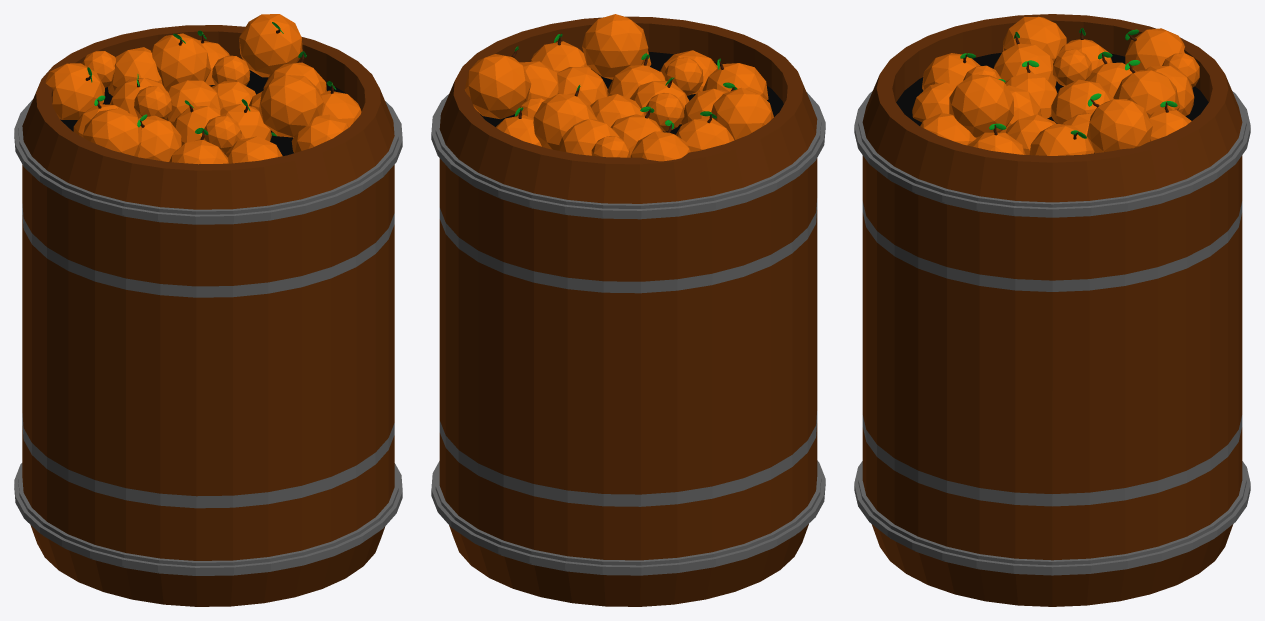
The model's file is OrangeBarrel.fbx.
3 views of the same model, side by side, from view 1: azimuth 30°, elevation 25°; view 2: azimuth 150°, elevation 25°; view 3: azimuth 270°, elevation 25° (orthographic).
Visible parts, largest first — view 1: Cylinder, orange.020; view 2: Cylinder, orange.020; view 3: Cylinder, orange.020.
Boxes of the visible parts, box(x1,y1,x2,y2) form: Cylinder: box(14, 25, 402, 606); orange.020: box(45, 14, 361, 164); Cylinder: box(431, 16, 825, 606); orange.020: box(464, 14, 773, 161); Cylinder: box(854, 14, 1250, 606); orange.020: box(912, 16, 1199, 155).
Bounding box in the file's own units: 209 × 281 × 209.
